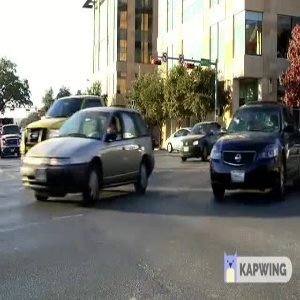car: (25, 108, 154, 206), (207, 97, 299, 203), (172, 115, 226, 161)
